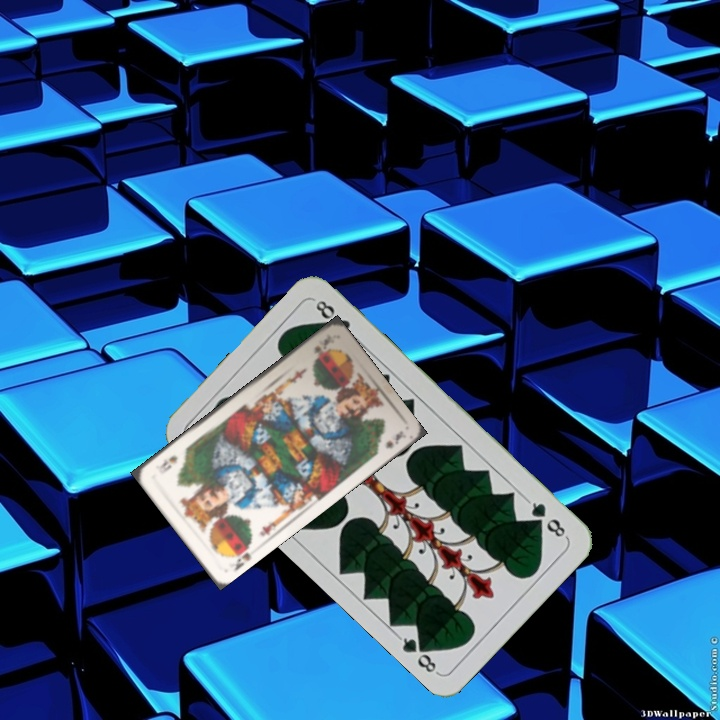G8: (523, 496, 570, 541)
SK: (229, 539, 254, 574), (310, 334, 331, 358)
